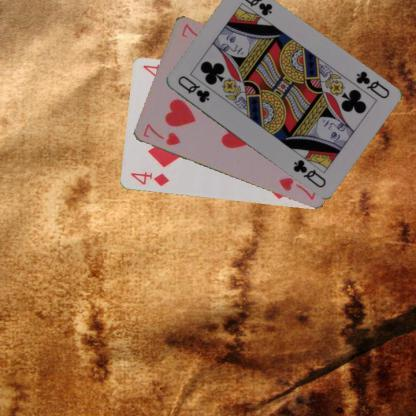4d: (128, 169, 170, 188)
7h: (140, 121, 181, 147)
Qc: (353, 68, 391, 100), (174, 72, 211, 104)
